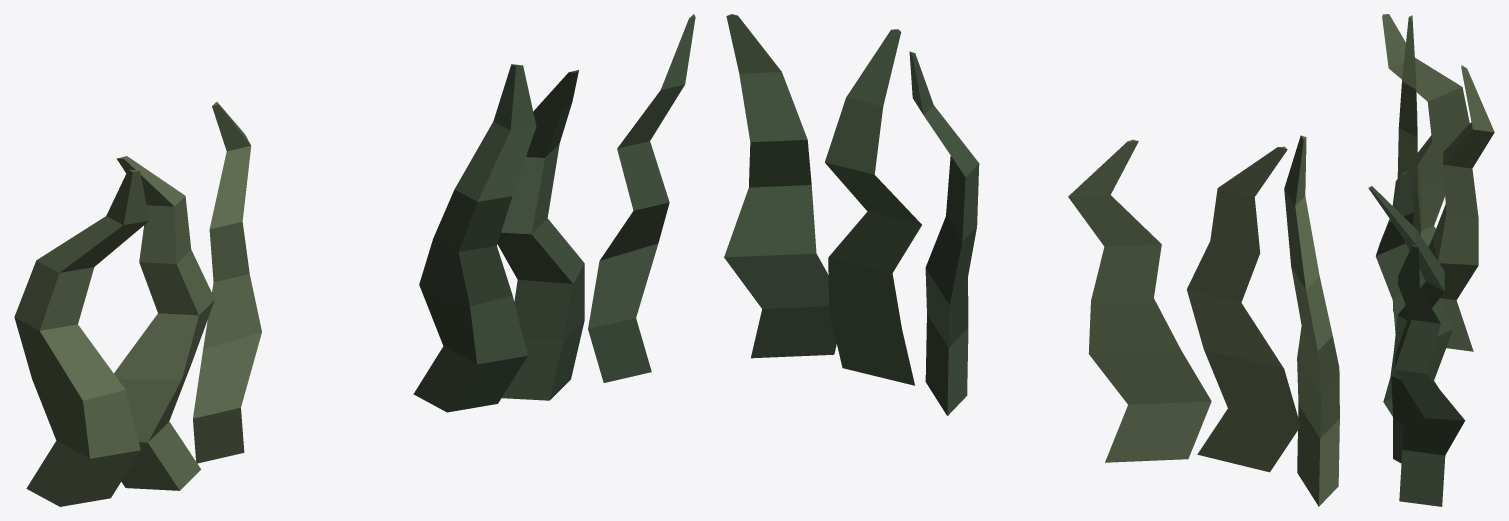
File: Grass.FBX
3 renders of one model, left to right at view 1: azimuth 30°, elevation 25°; view 2: azimuth 150°, elevation 25°; view 3: azimuth 270°, elevation 25°, orthographic. The views are drawn at different scales.
Visible parts, largest first — view 1: Grass1, Grass2; view 2: Grass2, Grass1; view 3: Grass1, Grass2.
Part boxes in pixels (box(x1,y1,x2,y2)): Grass1: box(14, 102, 261, 506); Grass2: box(413, 14, 695, 412); Grass2: box(724, 14, 979, 415); Grass1: box(1068, 135, 1339, 506); Grass1: box(1382, 14, 1494, 351); Grass2: box(1368, 172, 1465, 506).
Size of the model in its own units: 134 by 66.53 by 27.68.
